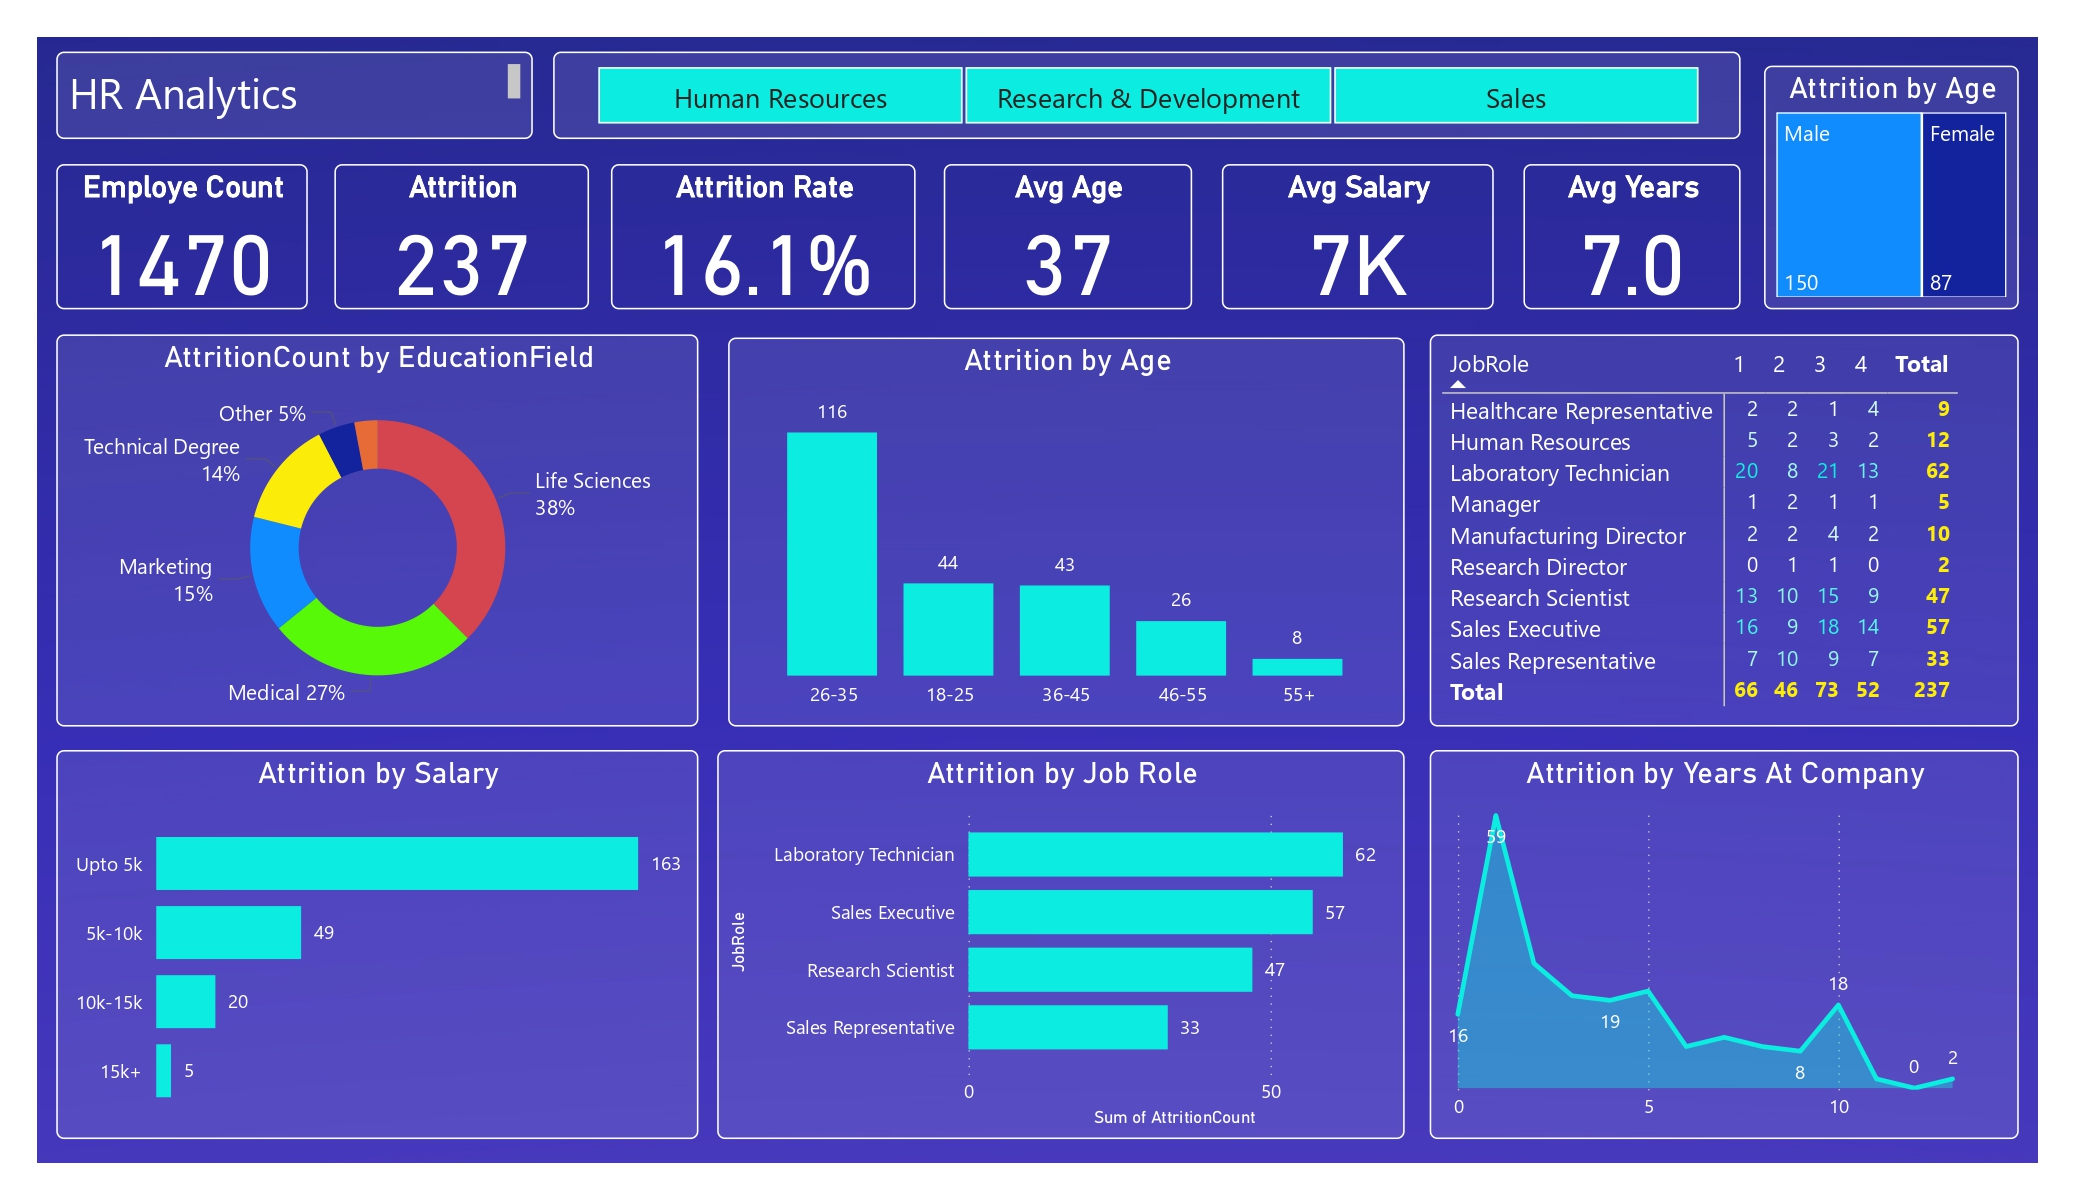

The page's visual inventory and layout, read from the dashboard file:
{"tool":"powerbi","page":{"name":"Page 1","canvas":[1280,720],"ordinal":0},"visuals":[{"type":"card","title":"Employe Count","fields":{"Values":["CountNonNull(HR_Analytics.EmpID)"]},"box":[11.8,81.1,160.8,92.9],"z":0},{"type":"card","title":"Attrition","fields":{"Values":["Sum(HR_Analytics.AttritionCount)"]},"box":[190.3,81.1,162.2,92.9],"z":1000},{"type":"card","title":"Attrition Rate","fields":{"Values":["HR_Analytics.Measure"]},"box":[367.3,81.1,194.7,92.9],"z":2000},{"type":"card","title":"Avg Age","fields":{"Values":["Avg(HR_Analytics.Age)"]},"box":[579.7,81.1,159.3,92.9],"z":3000},{"type":"card","title":"Avg Salary","fields":{"Values":["Avg(HR_Analytics.MonthlyIncome)"]},"box":[758.1,81.1,174,92.9],"z":4000},{"type":"card","title":"Avg Years","fields":{"Values":["Avg(HR_Analytics.YearsAtCompany)"]},"box":[951.4,81.1,138.6,92.9],"z":5000},{"type":"donutChart","title":"AttritionCount by EducationField","fields":{"Category":["HR_Analytics.EducationField"],"Y":["Sum(HR_Analytics.AttritionCount)"]},"box":[11.8,190.3,411.5,250.7],"z":6000},{"type":"columnChart","title":"Attrition by Age","fields":{"Y":["Sum(HR_Analytics.AttritionCount)"],"Category":["HR_Analytics.AgeGroup"]},"box":[442.5,191.7,432.2,249.3],"z":7000},{"type":"pivotTable","fields":{"Rows":["HR_Analytics.JobRole"],"Columns":["HR_Analytics.JobSatisfaction"],"Values":["Sum(HR_Analytics.AttritionCount)"]},"box":[890.9,190.3,377.6,250.7],"z":8000},{"type":"clusteredBarChart","title":"Attrition by Salary","fields":{"Category":["HR_Analytics.SalarySlab"],"Y":["Sum(HR_Analytics.AttritionCount)"]},"box":[11.8,455.8,411.5,249.3],"z":9000},{"type":"clusteredBarChart","title":"Attrition by Job Role","fields":{"Category":["HR_Analytics.JobRole"],"Y":["Sum(HR_Analytics.AttritionCount)"]},"box":[435.1,455.8,439.5,249.3],"z":10000},{"type":"areaChart","title":"Attrition by Years At Company","fields":{"Category":["HR_Analytics.YearsAtCompany"],"Y":["Sum(HR_Analytics.AttritionCount)"]},"box":[890.9,455.8,377.6,249.3],"z":11000},{"type":"treemap","title":"Attrition by Age","fields":{"Group":["HR_Analytics.Gender"],"Values":["Sum(HR_Analytics.AttritionCount)"]},"box":[1104.8,17.7,163.7,156.3],"z":12000},{"type":"slicer","fields":{"Values":["HR_Analytics.Department"]},"box":[330.4,8.8,759.6,56],"z":13000},{"type":"textbox","box":[11.8,8.8,305.3,56],"z":14000}]}

Visuals, with their boxes in screenshot pixels (x1, y1, x2, y2):
"Employe Count" card: box=[56, 164, 307, 309]
"Attrition" card: box=[335, 164, 588, 309]
"Attrition Rate" card: box=[611, 164, 916, 309]
"Avg Age" card: box=[943, 164, 1192, 309]
"Avg Salary" card: box=[1222, 164, 1494, 309]
"Avg Years" card: box=[1524, 164, 1741, 309]
"AttritionCount by EducationField" donutChart: box=[56, 335, 699, 727]
"Attrition by Age" columnChart: box=[729, 337, 1404, 727]
pivotTable - HR_Analytics.JobRole x HR_Analytics.JobSatisfaction: box=[1430, 335, 2020, 727]
"Attrition by Salary" clusteredBarChart: box=[56, 750, 699, 1139]
"Attrition by Job Role" clusteredBarChart: box=[717, 750, 1404, 1139]
"Attrition by Years At Company" areaChart: box=[1430, 750, 2020, 1139]
"Attrition by Age" treemap: box=[1764, 65, 2020, 309]
slicer - HR_Analytics.Department: box=[554, 51, 1741, 139]
textbox: box=[56, 51, 533, 139]
